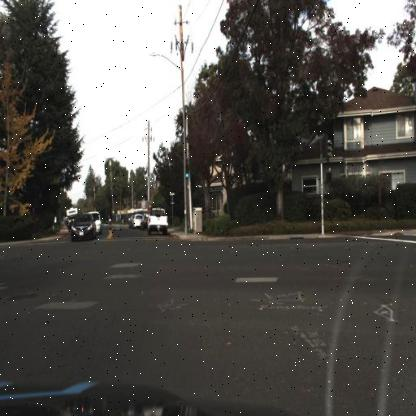car: (67, 209, 97, 245), (144, 207, 171, 242), (92, 205, 104, 236)
trafficLight-Green: (179, 162, 191, 193), (184, 156, 190, 183)
truck: (63, 204, 78, 225)
